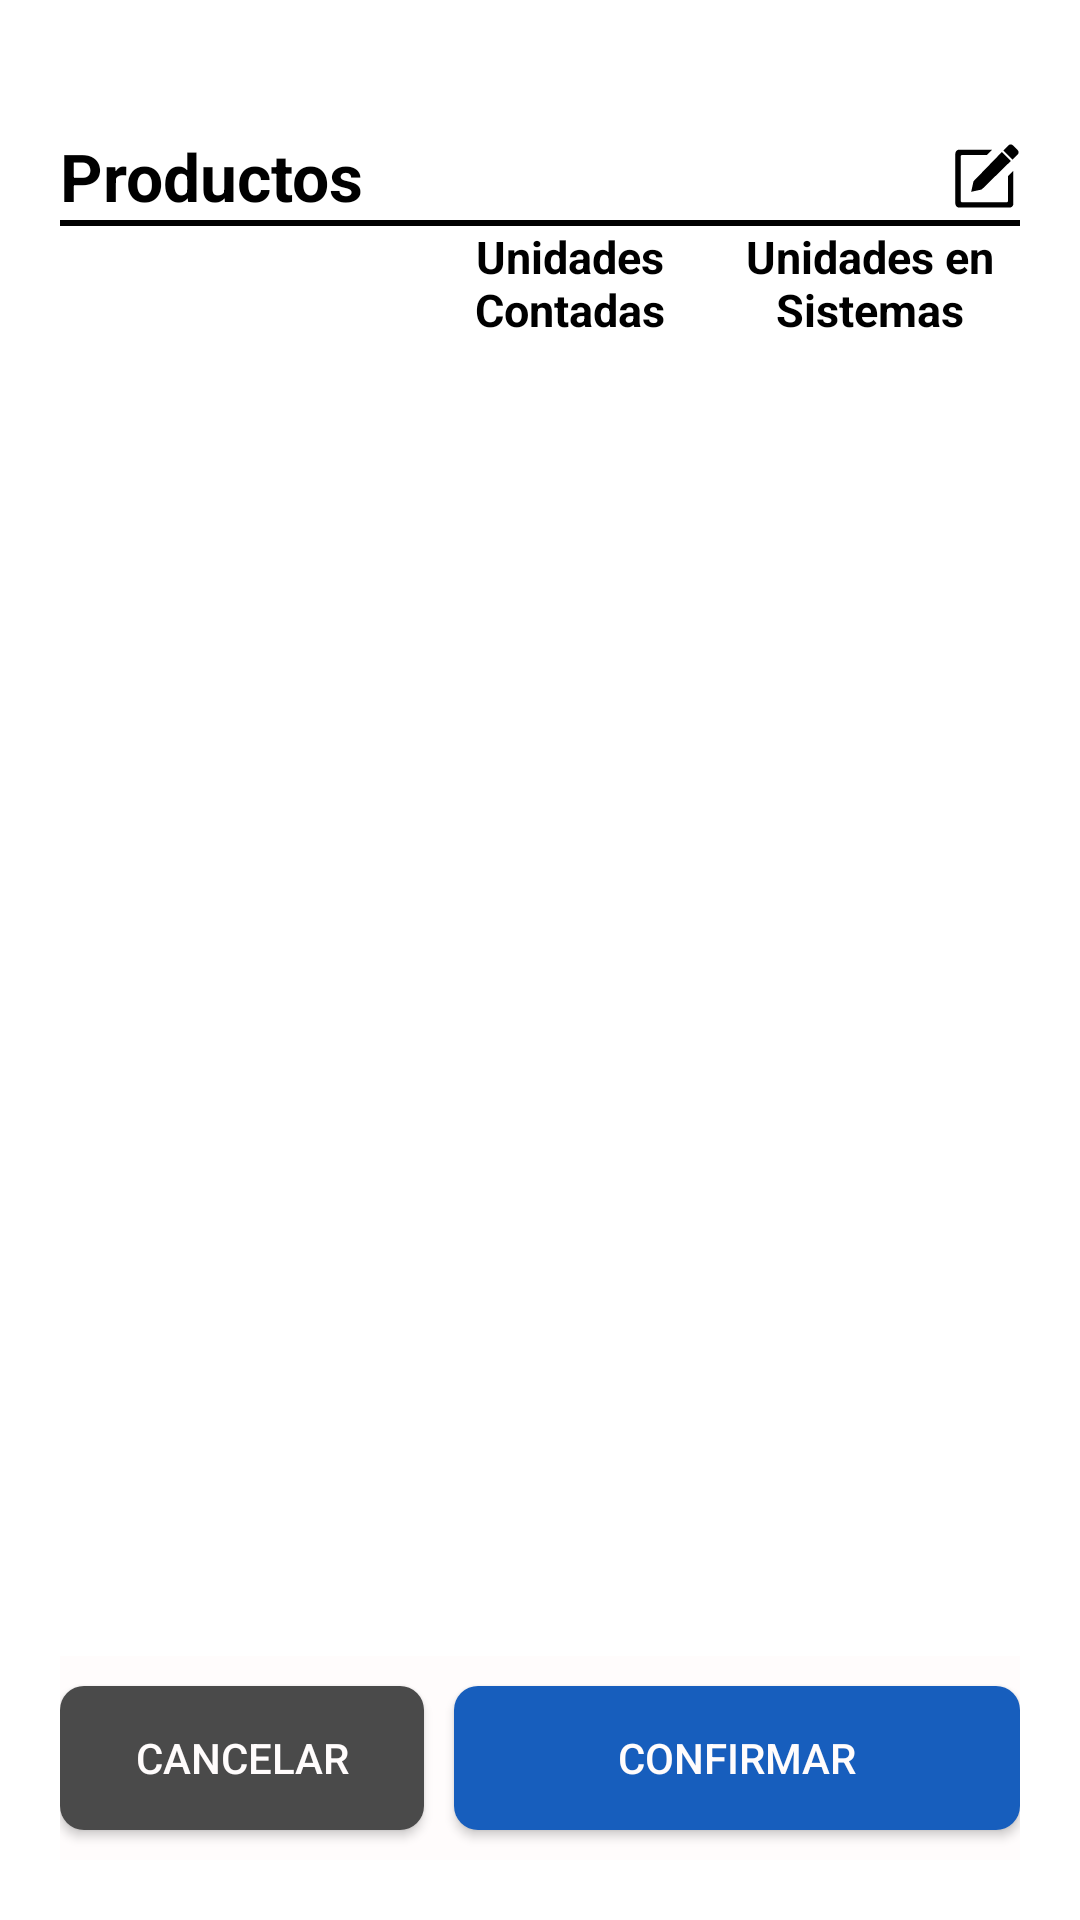

Icon click points for this 1080x1920 phone screenshot, format point (x, y):
edit: point (987, 176)
